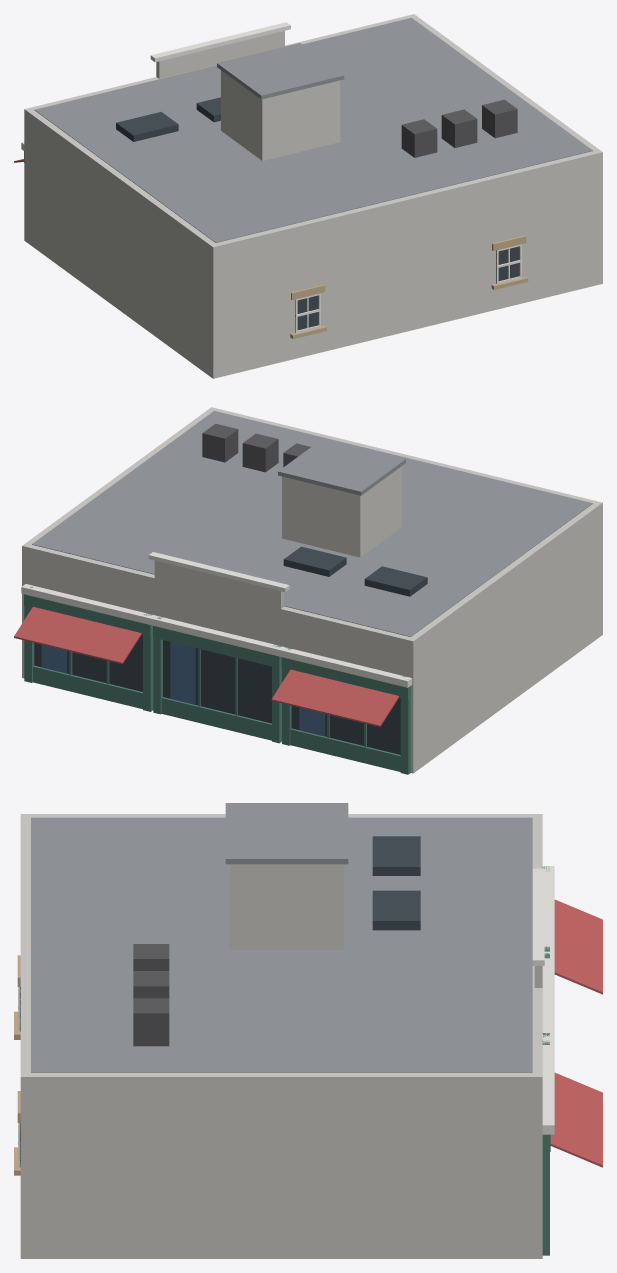
File: shop1_b.glb
3 views of the same model, one above another, from view 1: azimuth 30°, elevation 25°; view 2: azimuth 150°, elevation 25°; view 3: azimuth 270°, elevation 25° (orthographic). The views are drawn at different scales.
Visible parts, largest first — view 1: shop1_b; view 2: shop1_b; view 3: shop1_b.
Boxes of the visible parts, <box> form: shop1_b: <box>14,14,602,378</box>; shop1_b: <box>14,407,602,774</box>; shop1_b: <box>14,803,602,1258</box>.
Size of the model in its own units: 15.5 by 7.57 by 14.67.
